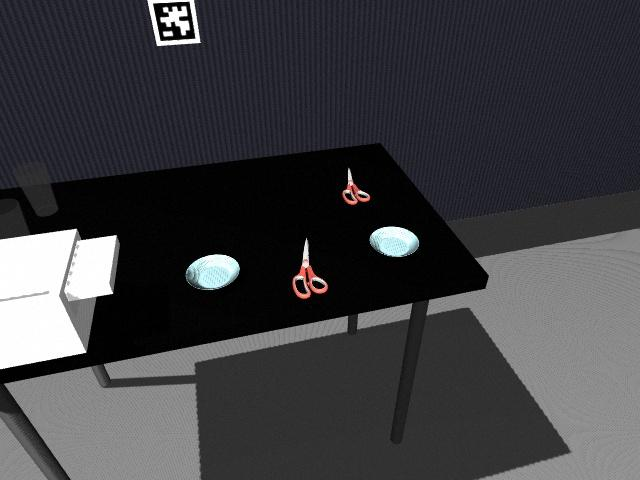cup: (13, 162, 59, 217)
plate: (184, 254, 241, 292), (368, 225, 420, 258)
scissors: (291, 236, 329, 299), (341, 166, 370, 205)
